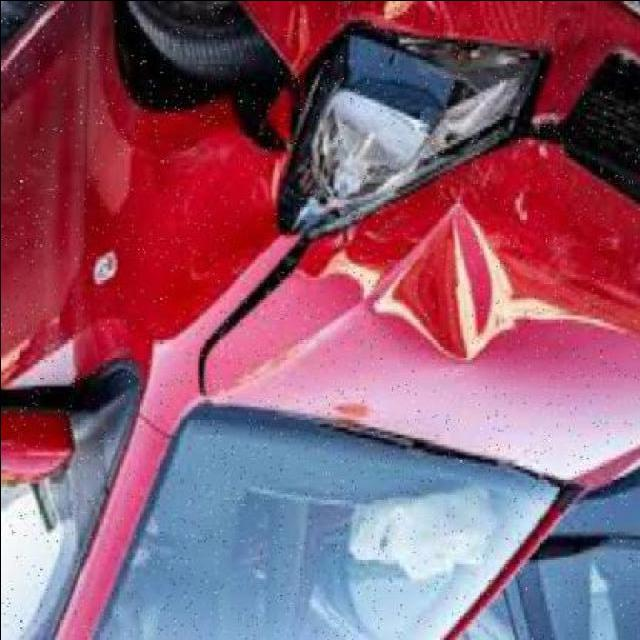bonnet-dent: (238, 147, 639, 434)
